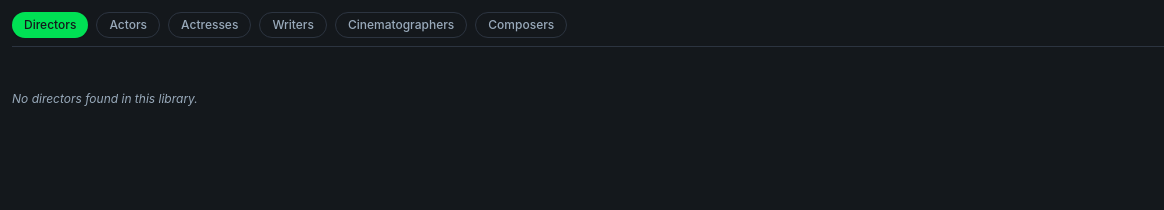
Phase B: Data Correctness & Cross-Section Invariants › 6b. Cast Ranking UI: toggles between All Cast, Actors, and Actresses with state preservation
expect the button "Actresses" is shown: met, box [168,12,251,38]
Click direct Actors tab
Click the button "Actors".
click(128, 25)  # box [96,12,160,38]
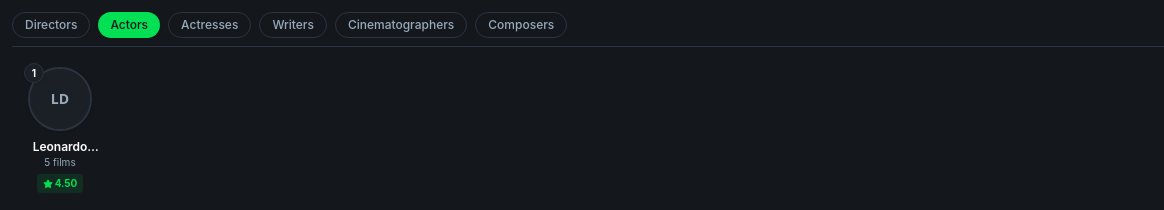
expect the text "Scarlett Johansson" is not shown: met
expect the text "Leonardo DiCaprio" is shown: met, box [33,139,87,170]
Click direct Actresses tab
Click the button "Actresses".
click(210, 25)  # box [168,12,251,38]
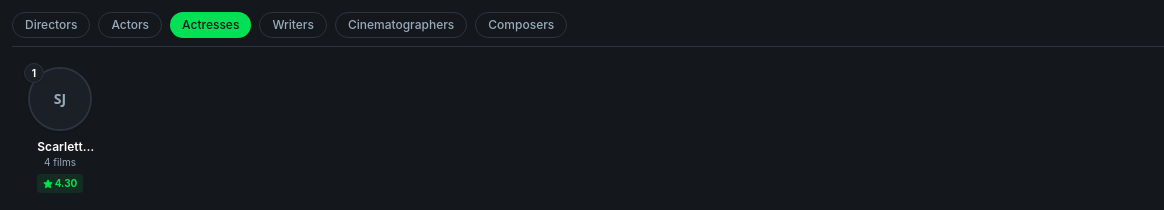
expect the button "Leonardo DiCaprio" is gone: met
expect the text "Scarlett Johansson" is shown: met, box [28,139,92,170]
